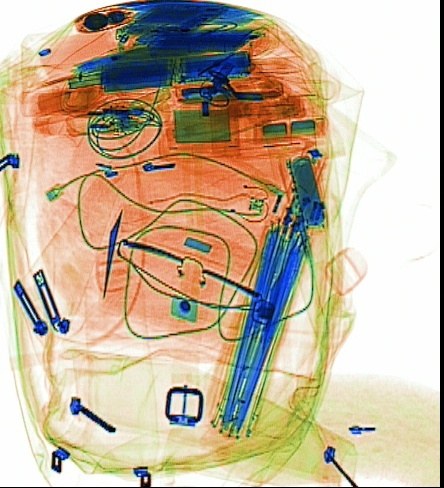powerbank: (97, 43, 252, 93)
